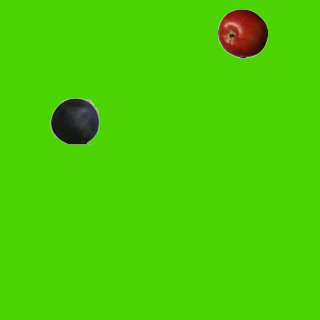Apple Braeburn: (217, 8, 267, 58)
Grape Blue: (49, 95, 99, 145)
